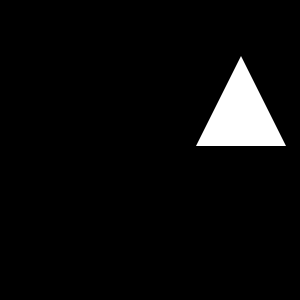triangle: (196, 56, 286, 146)
